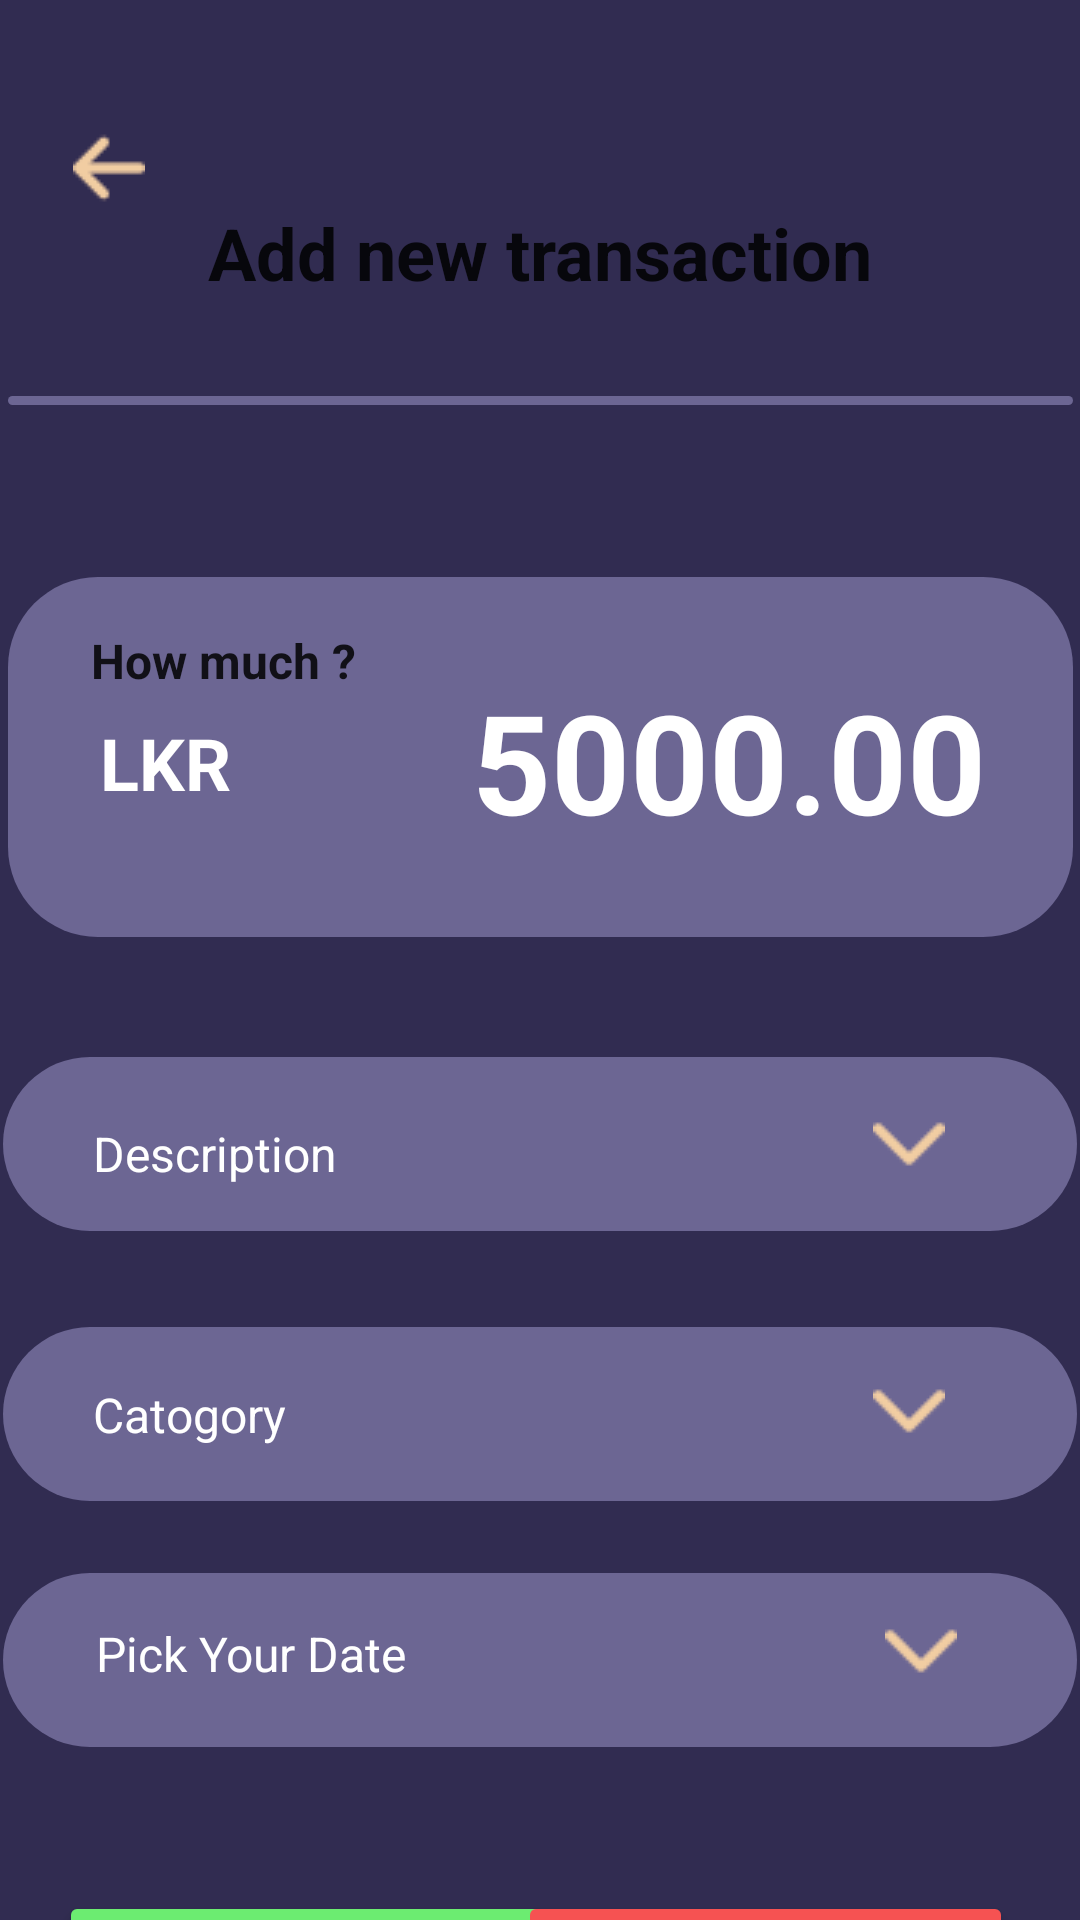

Locate icon controls on the screen. Image size 1080 × 1920, boxes as (x1, y1, x2, y2).
arrow: (73, 135, 145, 201)
